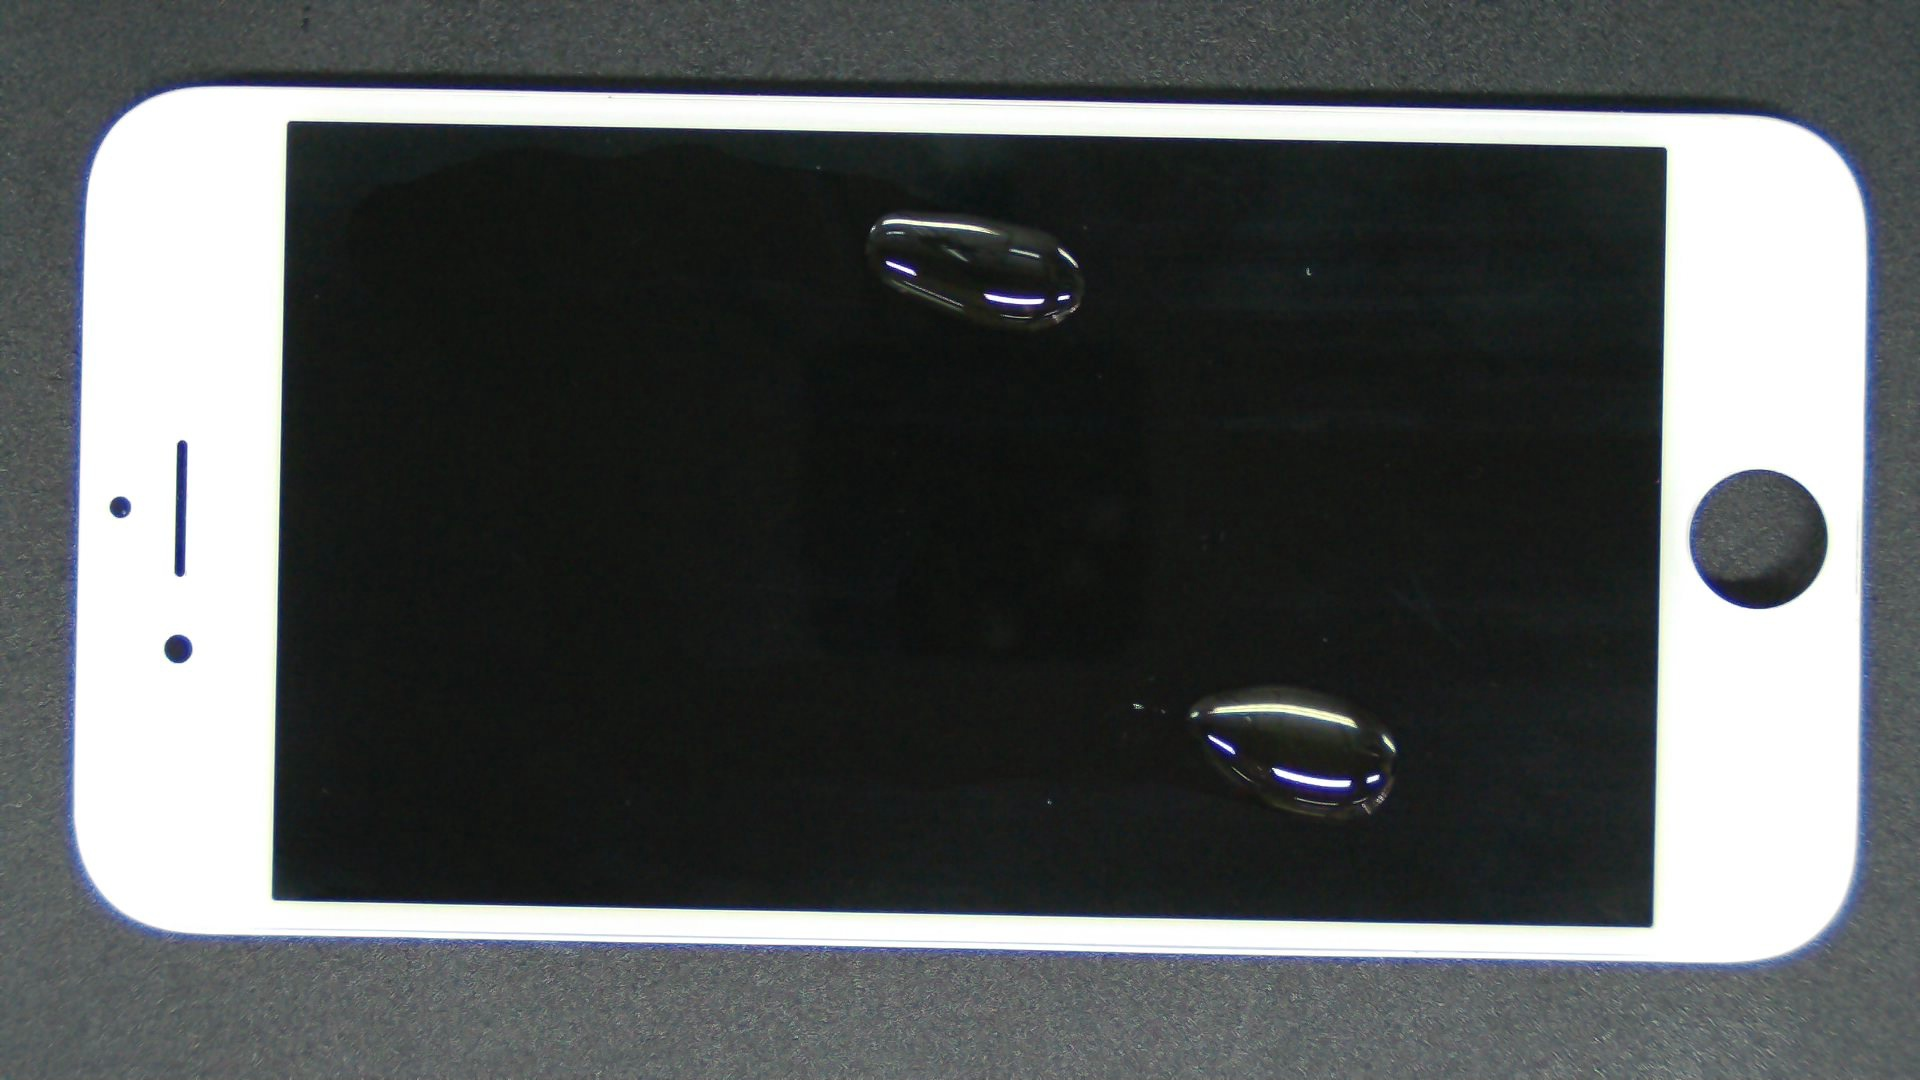oil: (641, 343, 1920, 1030), (447, 104, 1341, 315)
